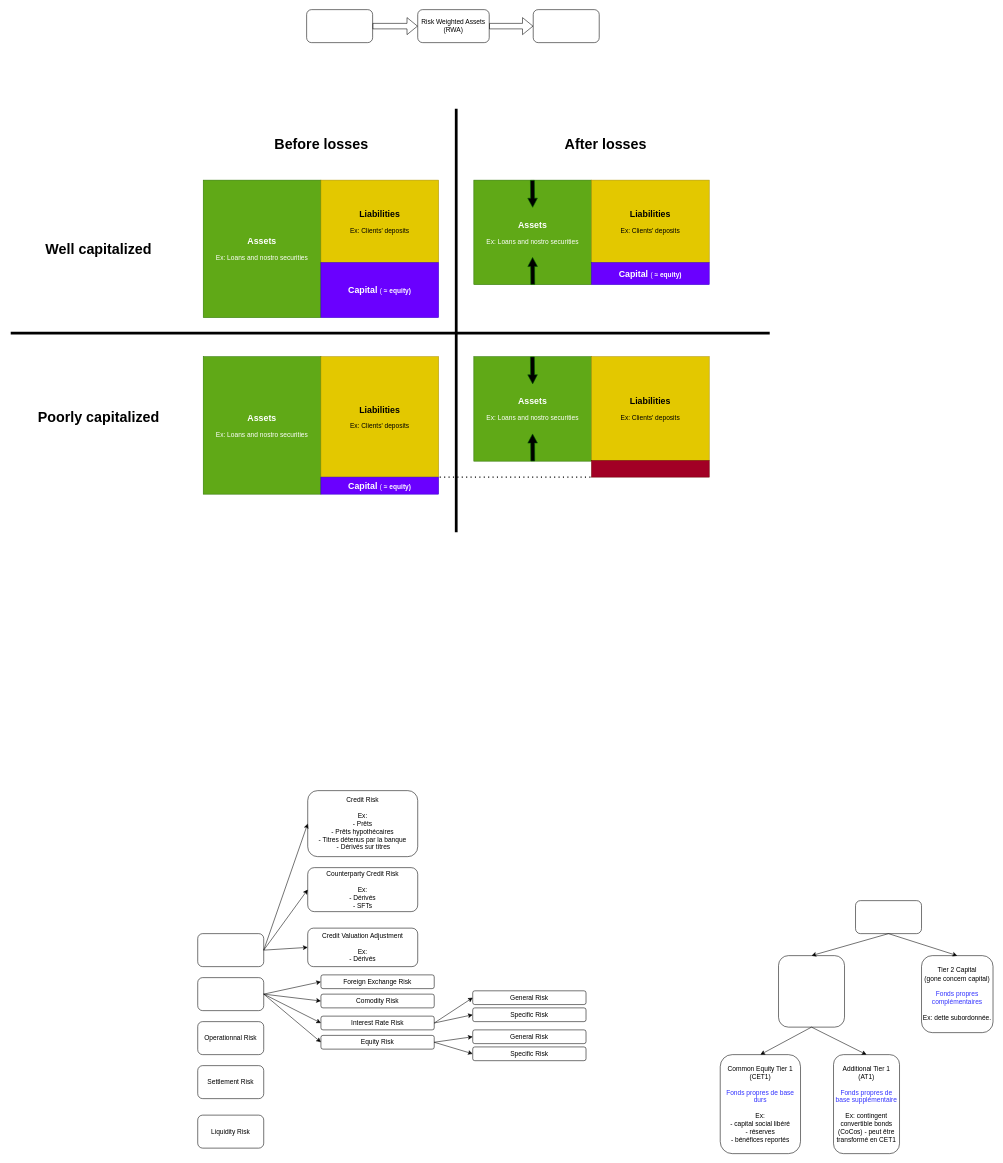
The diagram is 1003 pixels wide and 1163 high, and some of its shapes have lost their labels. Here are the shapes that lost their labels. From the top down, the box of each, then its label:
(306, 9, 373, 43): Risk of Financial Loss
(533, 9, 599, 43): Minimum Capital Requirement
(855, 900, 922, 934): Total regulatory capital
(197, 933, 264, 967): Credit Risk
(197, 977, 264, 1011): Market Risk
(778, 955, 845, 1027): Tier 1 Capital (going concern capital) Fonds propres de base
